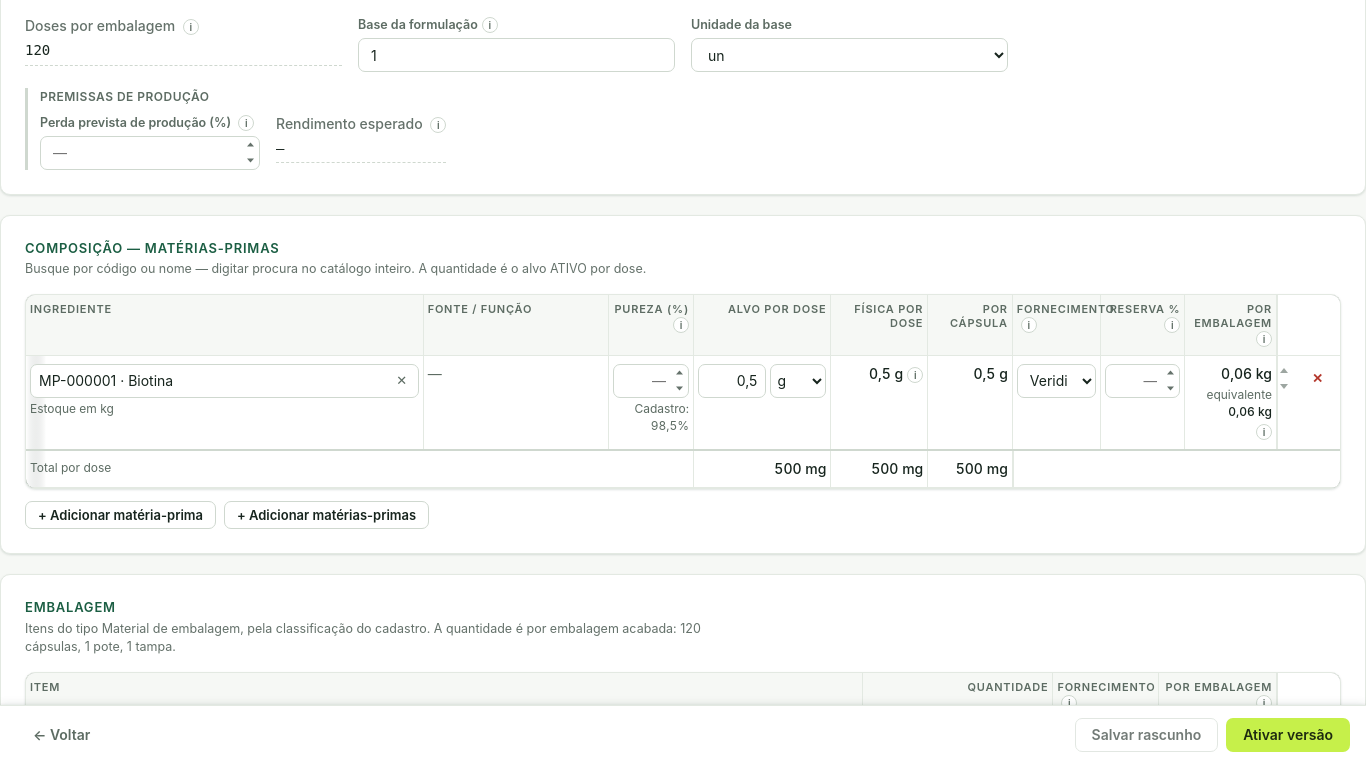
it: Bancada do Modelo — pureza e reserva são colunas › a pureza digitada corrige a física por dose na hora
(page scrolled)
Expected: the field named "Quantidade de MP-000001" is shown, x1=698 y1=364 x2=766 y2=398
Type "50" into the field named "Pureza de MP-000001" at (651, 381), box x1=614 y1=364 x2=689 y2=398
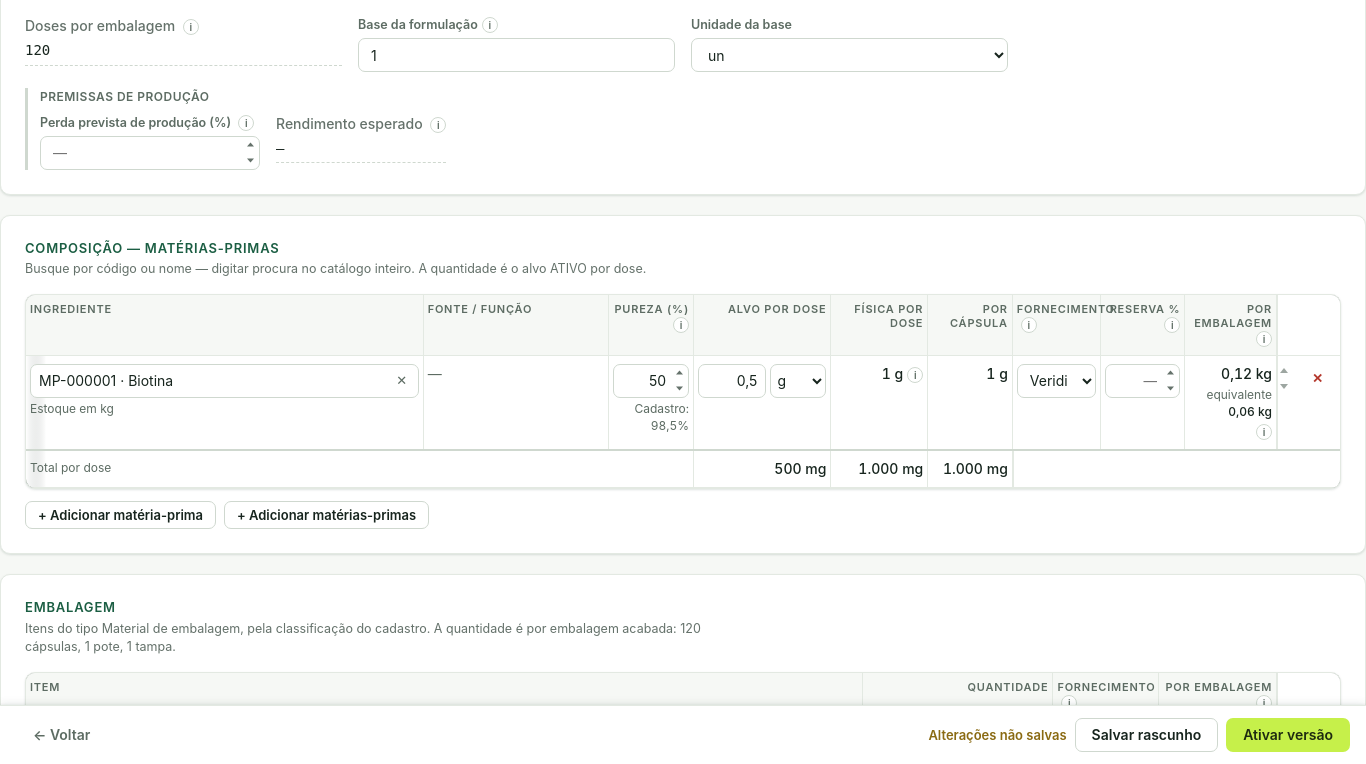
Result: the 1st text "1 g" is shown at x1=882 y1=365 x2=903 y2=382
